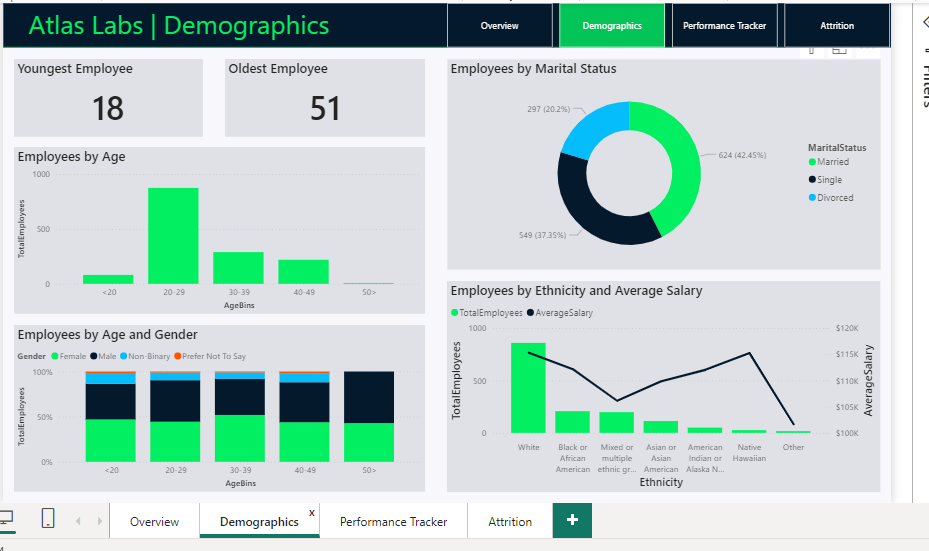

The dashboard page shown, as its layout file describes it:
{"tool":"powerbi","page":{"name":"Patient Demographics","canvas":[1280,720],"ordinal":1},"visuals":[{"type":"card","fields":{"Values":["_Measure.Total_Number_Patient"]},"box":[325.7,0,172.5,107.4],"z":0},{"type":"lineChart","fields":{"Category":["healthcare_dataset.Date of Admission.Variation.Date Hierarchy.Year","healthcare_dataset.Date of Admission.Variation.Date Hierarchy.Quarter","healthcare_dataset.Date of Admission.Variation.Date Hierarchy.Month","healthcare_dataset.Date of Admission.Variation.Date Hierarchy.Day"],"Series":["healthcare_dataset.Admission Type"],"Y":["_Measure.Total_Number_Patition"]},"box":[326.3,106.8,548.8,276.6],"z":1000},{"type":"card","fields":{"Values":["Avg(healthcare_dataset.Age)"]},"box":[498.3,0,170.8,107.4],"z":3000},{"type":"pieChart","fields":{"Category":["healthcare_dataset.Gender"],"Y":["_Measure.Total_Number_Patient"]},"box":[875.1,0,405.4,310.2],"z":4000},{"type":"columnChart","fields":{"Category":["healthcare_dataset.Age Group"],"Y":["_Measure.Total_Number_Patient"]},"box":[326.3,383.4,548.8,335.1],"z":5000},{"type":"barChart","fields":{"Category":["healthcare_dataset.Blood Type"],"Y":["_Measure.Total Patients"],"Series":["healthcare_dataset.Medical Condition"]},"box":[875.1,310.2,405.4,408.3],"z":6000},{"type":"image","box":[0,0,325.9,250.3],"z":7000},{"type":"pageNavigator","box":[0,235.2,325.9,226.8],"z":8000},{"type":"card","fields":{"Values":["Avg(healthcare_dataset.Length of Stay)"]},"box":[669.1,0,206,107.4],"z":12000}]}

Visuals, with their boxes on the page's 1280x720 design canvas (x1, y1, x2, y2). These are canvas units, not pixel positions in the 929x551 screenshot, which may show the page scaled, cropped or inside an application window:
card - _Measure.Total_Number_Patient: locate(326, 0, 498, 107)
lineChart - healthcare_dataset.Date of Admission.Variation.Date Hierarchy.Year x healthcare_dataset.Date of Admission.Variation.Date Hierarchy.Quarter: locate(326, 107, 875, 383)
card - Avg(healthcare_dataset.Age): locate(498, 0, 669, 107)
pieChart - healthcare_dataset.Gender x _Measure.Total_Number_Patient: locate(875, 0, 1280, 310)
columnChart - healthcare_dataset.Age Group x _Measure.Total_Number_Patient: locate(326, 383, 875, 718)
barChart - healthcare_dataset.Blood Type x _Measure.Total Patients: locate(875, 310, 1280, 718)
image: locate(0, 0, 326, 250)
pageNavigator: locate(0, 235, 326, 462)
card - Avg(healthcare_dataset.Length of Stay): locate(669, 0, 875, 107)
